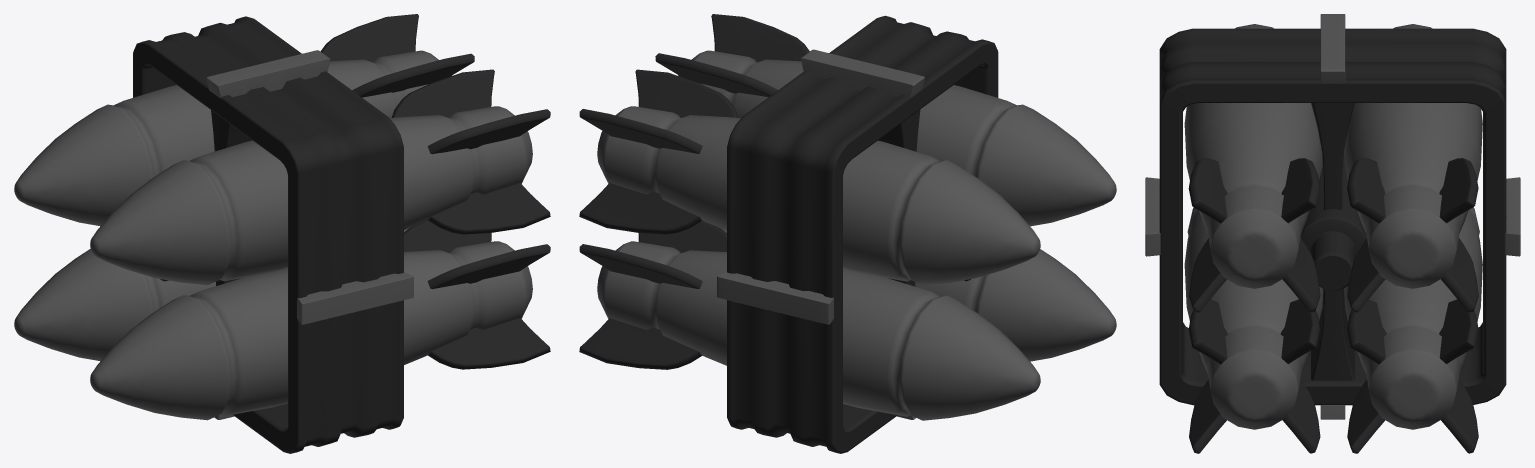
Rendered from _Big_rocket_ammunition.fbx.
3 renders of one model, left to right at view 1: azimuth 30°, elevation 25°; view 2: azimuth 150°, elevation 25°; view 3: azimuth 270°, elevation 25°, orthographic. The views are drawn at different scales.
Parts seen in each view (by area): view 1: Big_rocket_ammunition; view 2: Big_rocket_ammunition; view 3: Big_rocket_ammunition.
Part boxes in pixels (<box>): Big_rocket_ammunition: <box>14,14,550,453</box>; Big_rocket_ammunition: <box>579,14,1116,453</box>; Big_rocket_ammunition: <box>1145,14,1520,453</box>.
Bounding box in the file's own units: 99.89 × 74.58 × 72.57.
1 material, 1 textured.
